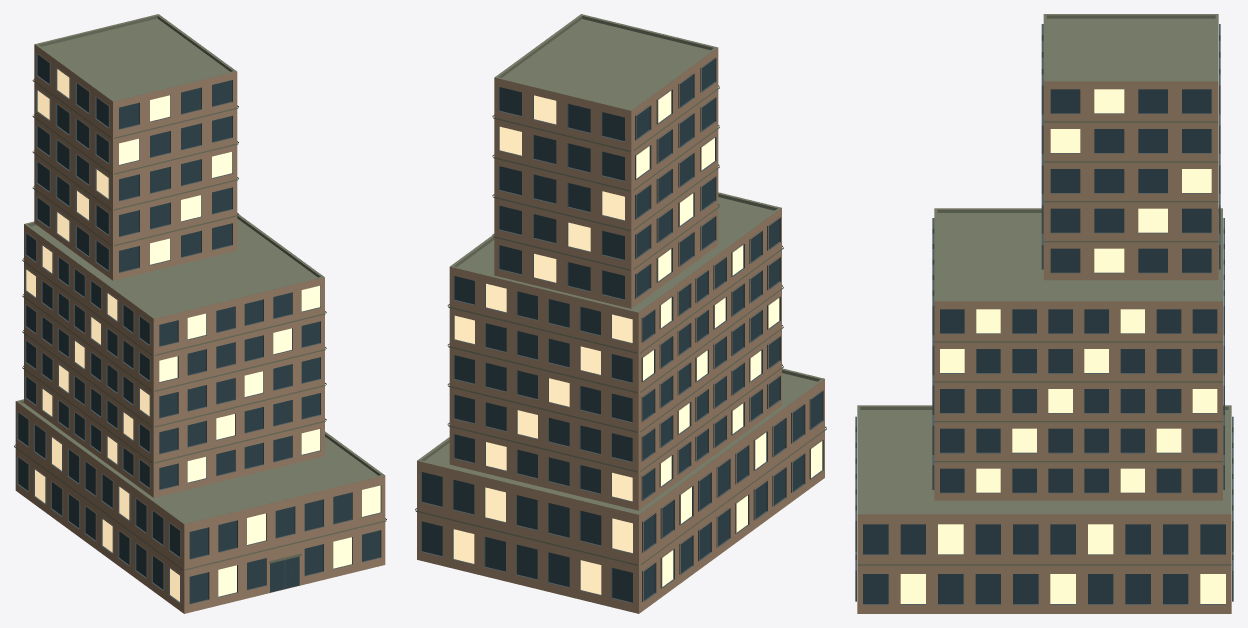
The model's file is city-block-commercial.glb.
3 views of the same model, side by side, from view 1: azimuth 30°, elevation 25°; view 2: azimuth 150°, elevation 25°; view 3: azimuth 270°, elevation 25° (orthographic). The views are drawn at different scales.
Parts seen in each view (by area): view 1: commercial_lod0; view 2: commercial_lod0; view 3: commercial_lod0.
Part boxes in pixels (<box>): commercial_lod0: <box>14,14,386,613</box>; commercial_lod0: <box>415,14,826,613</box>; commercial_lod0: <box>855,14,1233,613</box>.
Size of what is drawn, in the model's own units: 22.06 by 46.16 by 31.84.
